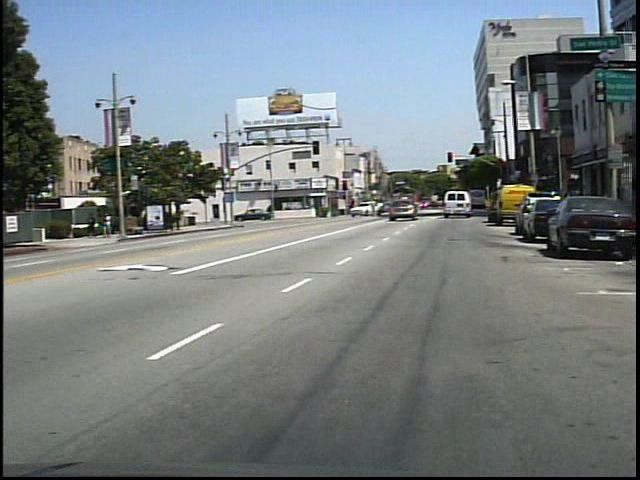person: (106, 209, 123, 242), (269, 195, 284, 223), (91, 212, 105, 239)
